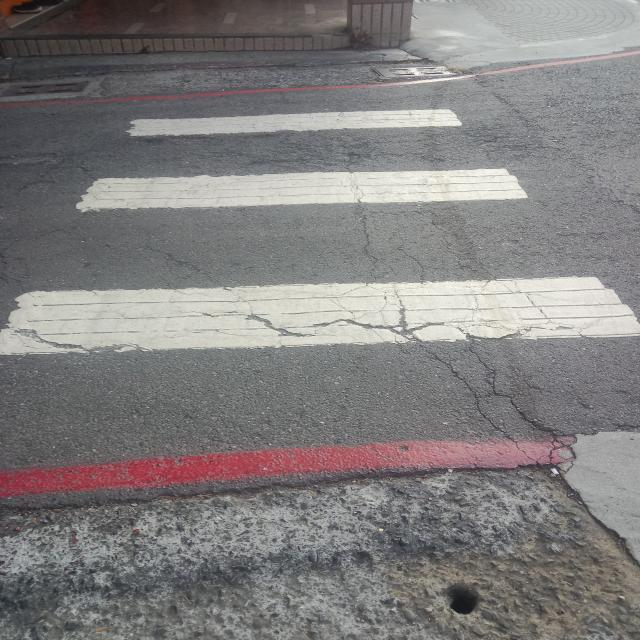zebra_crossing: (99, 0, 130, 306)
